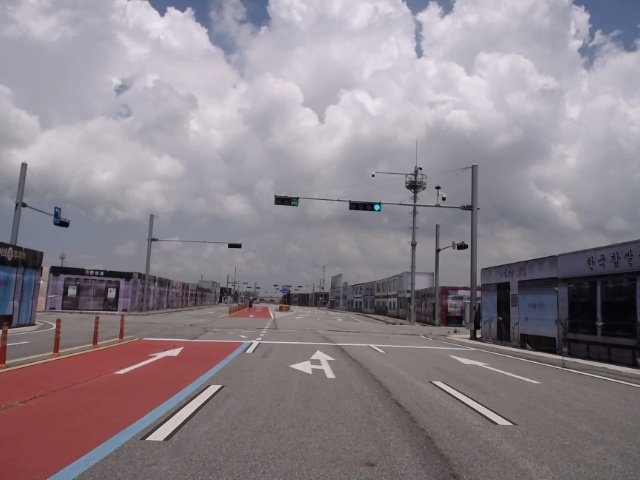straight_green_4: (348, 202, 383, 213)
